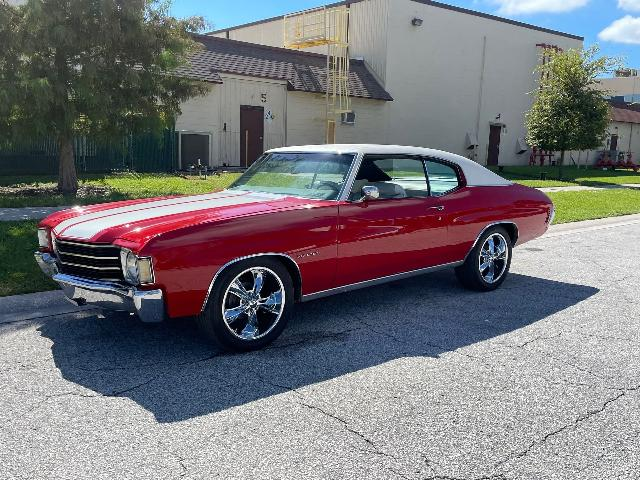chevelle-1972: (34, 144, 554, 351)
